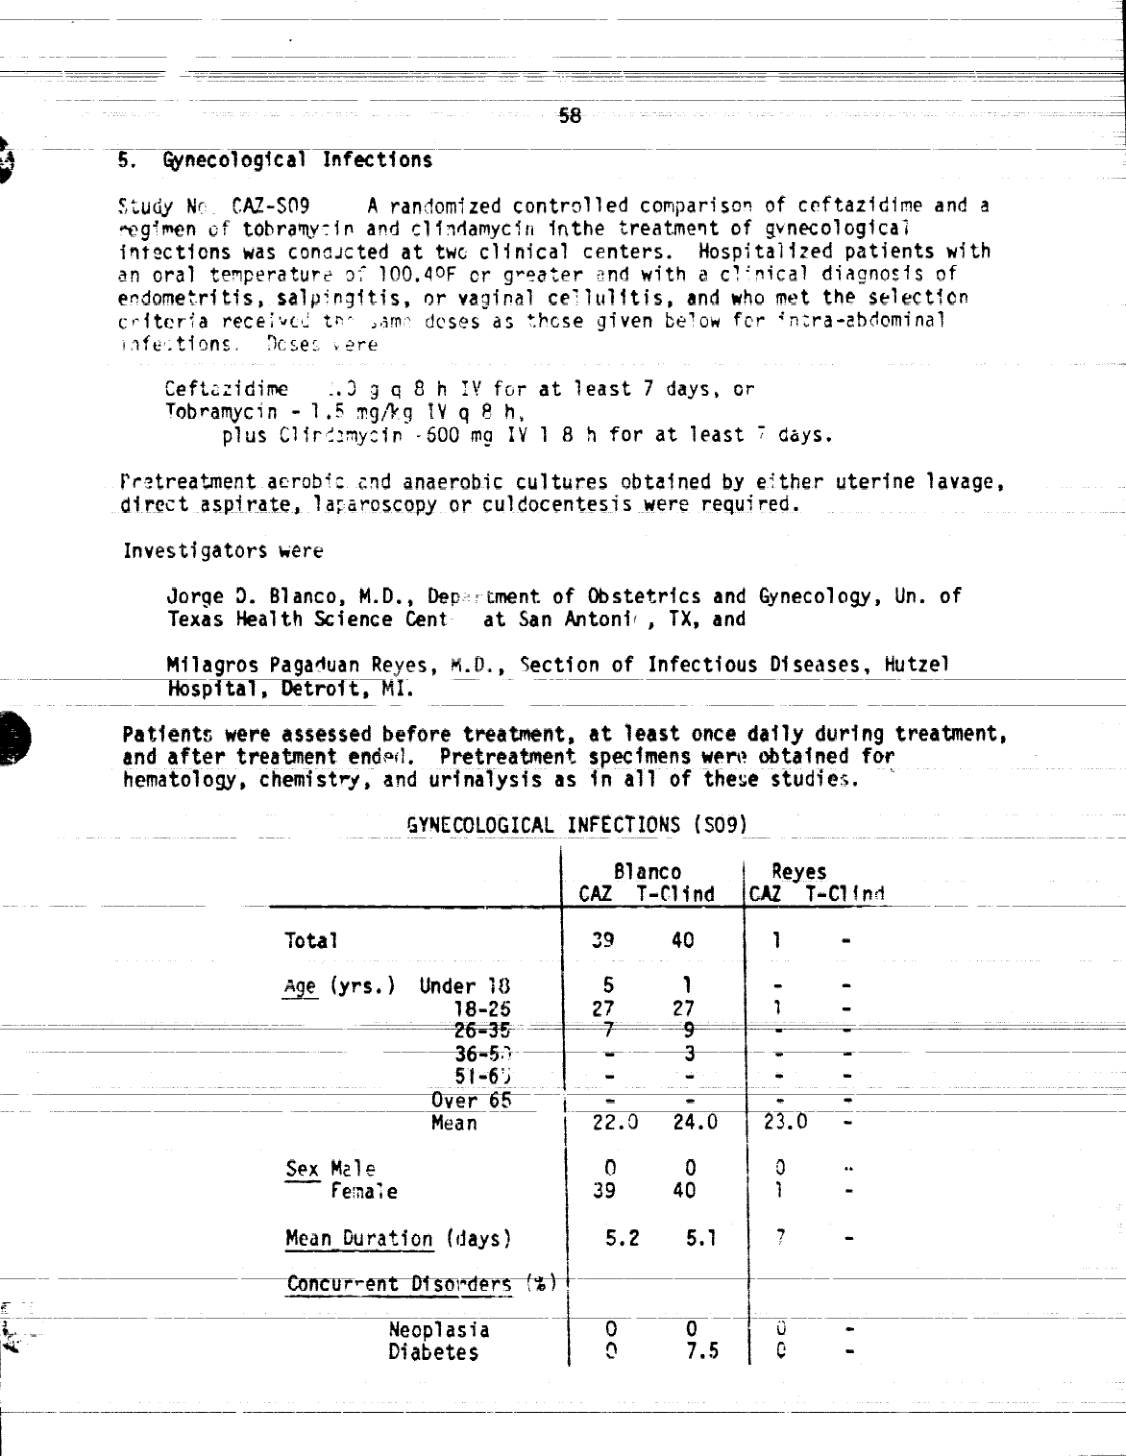partial_lined_merged_cells: (256, 845, 904, 1369)
